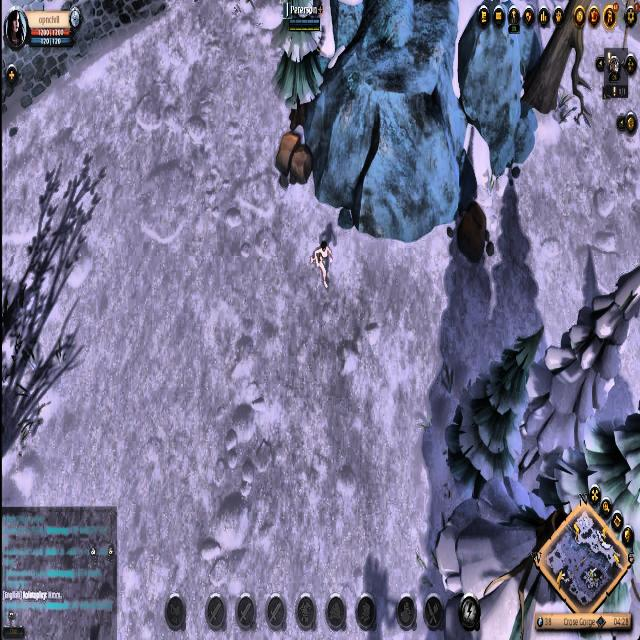limestone: (446, 196, 498, 266), (274, 128, 314, 192)
